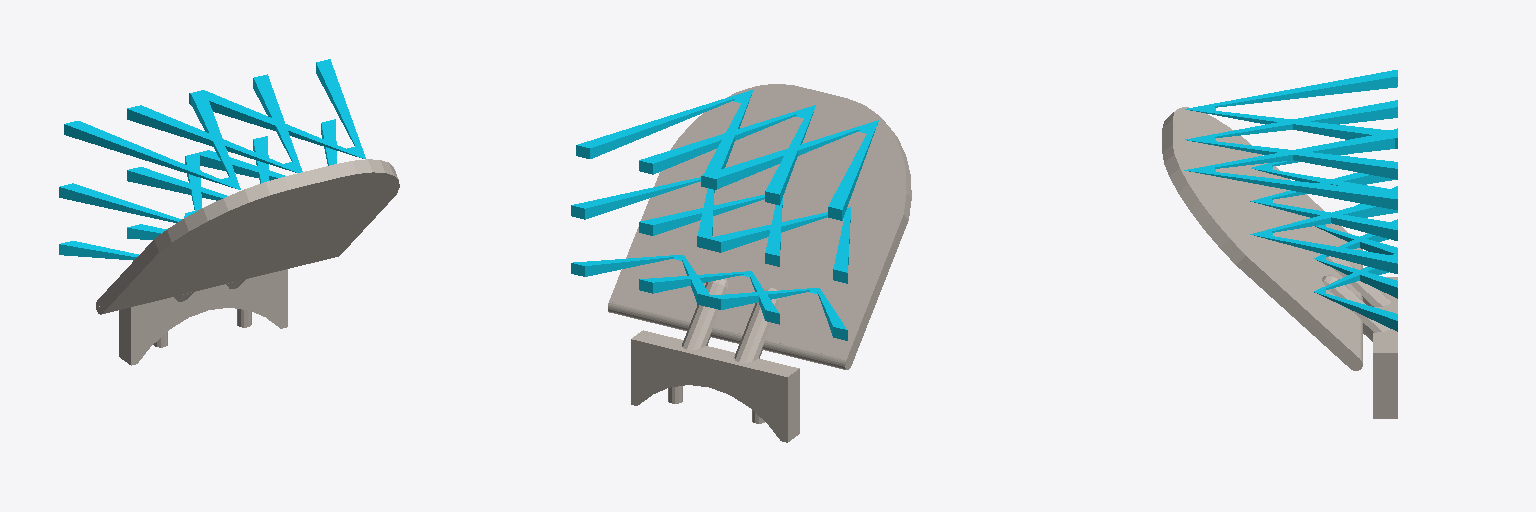
The model's file is Cover_Hatch.obj.
3 views of the same model, side by side, from view 1: azimuth 30°, elevation 25°; view 2: azimuth 150°, elevation 25°; view 3: azimuth 270°, elevation 25° (orthographic).
Size of the model in its own units: 26.5 by 22.82 by 19.5.